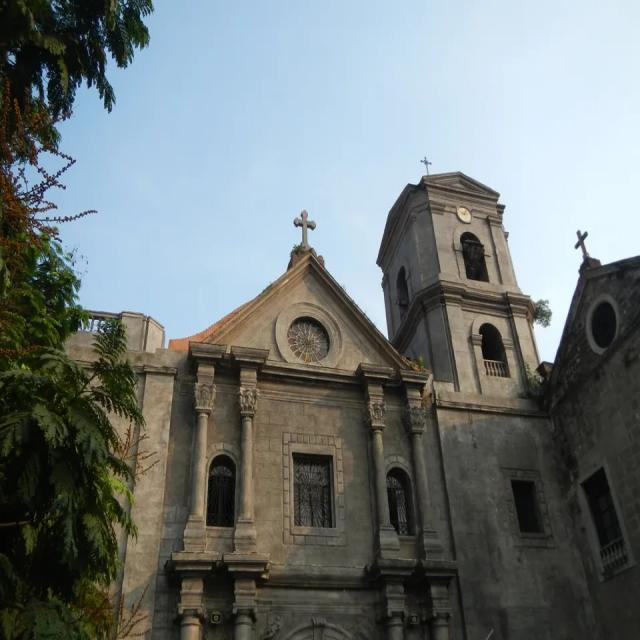San Agustin Church: (137, 147, 575, 640)
